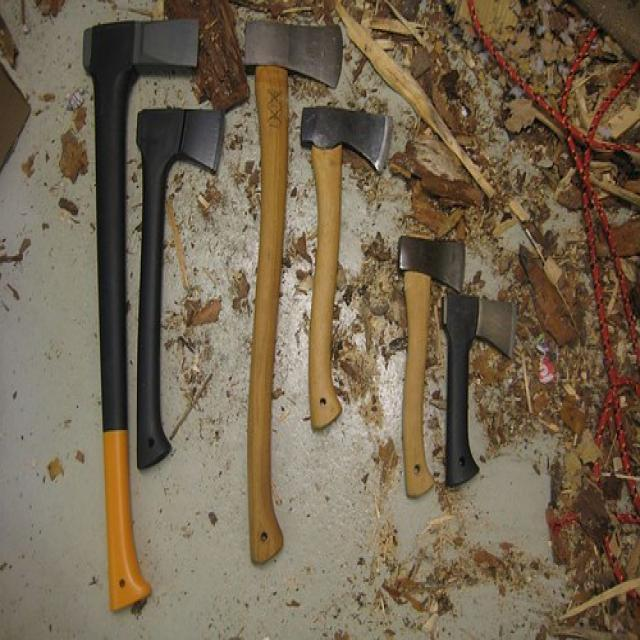Axe: (84, 20, 199, 609), (245, 21, 342, 563), (138, 109, 224, 468), (301, 106, 391, 422), (399, 236, 465, 497), (444, 292, 515, 486)
